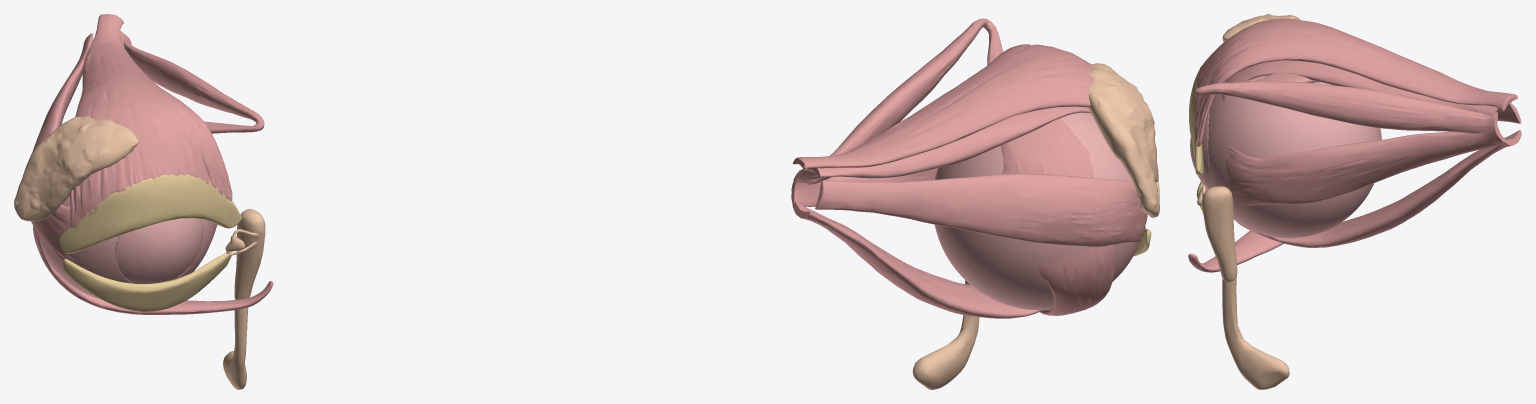
The model's file is sensory-eye-right.v1.glb.
The picture shows the model from 3 angles, left to right: view 1: azimuth 30°, elevation 25°; view 2: azimuth 150°, elevation 25°; view 3: azimuth 270°, elevation 25°; orthographic projection. The views are drawn at different scales.
Visible parts, largest first — view 1: right_levator_palpebrae_superioris, right_lacrimal_gland, tarsal_plate_of_right_upper_eyelid, right_cornea, tarsal_plate_of_right_lower_eyelid, right_superior_oblique, right_lateral_rectus, right_sclera, right_inferior_oblique, right_lacrimal_sac, right_nasolacrimal_duct; view 2: right_lateral_rectus, right_levator_palpebrae_superioris, right_sclera, right_superior_oblique, right_lacrimal_gland, right_inferior_rectus, right_superior_rectus, right_inferior_oblique, right_nasolacrimal_duct, right_medial_rectus; view 3: right_sclera, right_levator_palpebrae_superioris, right_medial_rectus, right_superior_oblique, right_inferior_rectus, right_superior_rectus, right_nasolacrimal_duct, right_lacrimal_sac, right_inferior_oblique, tarsal_plate_of_right_upper_eyelid, right_cornea, right_lacrimal_gland (+1 smaller).
Boxes of the visible parts, x1,y1,x2,y2 form: right_levator_palpebrae_superioris: (70, 14, 232, 228); right_lacrimal_gland: (14, 116, 139, 221); tarsal_plate_of_right_upper_eyelid: (59, 174, 241, 253); right_cornea: (115, 218, 202, 283); tarsal_plate_of_right_lower_eyelid: (62, 252, 231, 311); right_superior_oblique: (124, 34, 264, 133); right_lateral_rectus: (31, 33, 93, 262); right_sclera: (38, 195, 214, 299); right_inferior_oblique: (33, 225, 273, 314); right_lacrimal_sac: (234, 209, 265, 299); right_nasolacrimal_duct: (223, 307, 248, 389); right_lateral_rectus: (815, 173, 1147, 246); right_levator_palpebrae_superioris: (793, 44, 1158, 181); right_sclera: (935, 112, 1139, 310); right_superior_oblique: (797, 18, 1093, 184); right_lacrimal_gland: (1088, 63, 1159, 216); right_inferior_rectus: (792, 201, 1041, 318); right_superior_rectus: (807, 106, 1090, 178); right_inferior_oblique: (1039, 244, 1118, 315); right_nasolacrimal_duct: (912, 280, 979, 389); right_medial_rectus: (791, 168, 937, 212); right_sclera: (1208, 75, 1381, 238); right_levator_palpebrae_superioris: (1195, 18, 1517, 146); right_medial_rectus: (1226, 120, 1508, 206); right_superior_oblique: (1194, 72, 1497, 133); right_inferior_rectus: (1237, 130, 1521, 247); right_superior_rectus: (1222, 60, 1498, 115); right_nasolacrimal_duct: (1222, 279, 1289, 389); right_lacrimal_sac: (1202, 186, 1237, 282); right_inferior_oblique: (1188, 230, 1283, 272); tarsal_plate_of_right_upper_eyelid: (1189, 69, 1203, 175); right_cornea: (1190, 111, 1210, 189); right_lacrimal_gland: (1222, 14, 1300, 41).
Size of the model in its own units: 0.0852 by 0.0493 by 0.0473.
